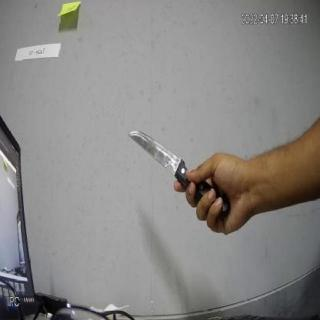knife: (124, 126, 230, 222)
